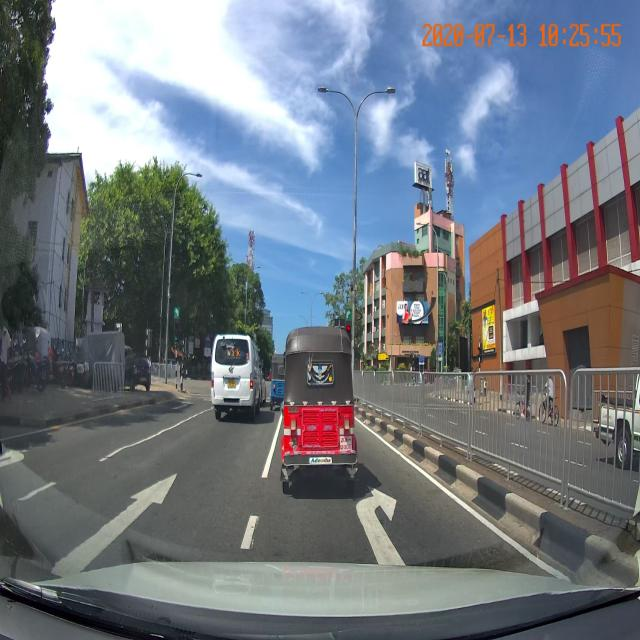Strelka vpered: (36, 469, 180, 585)
Strelka vpravo: (352, 482, 410, 569)
